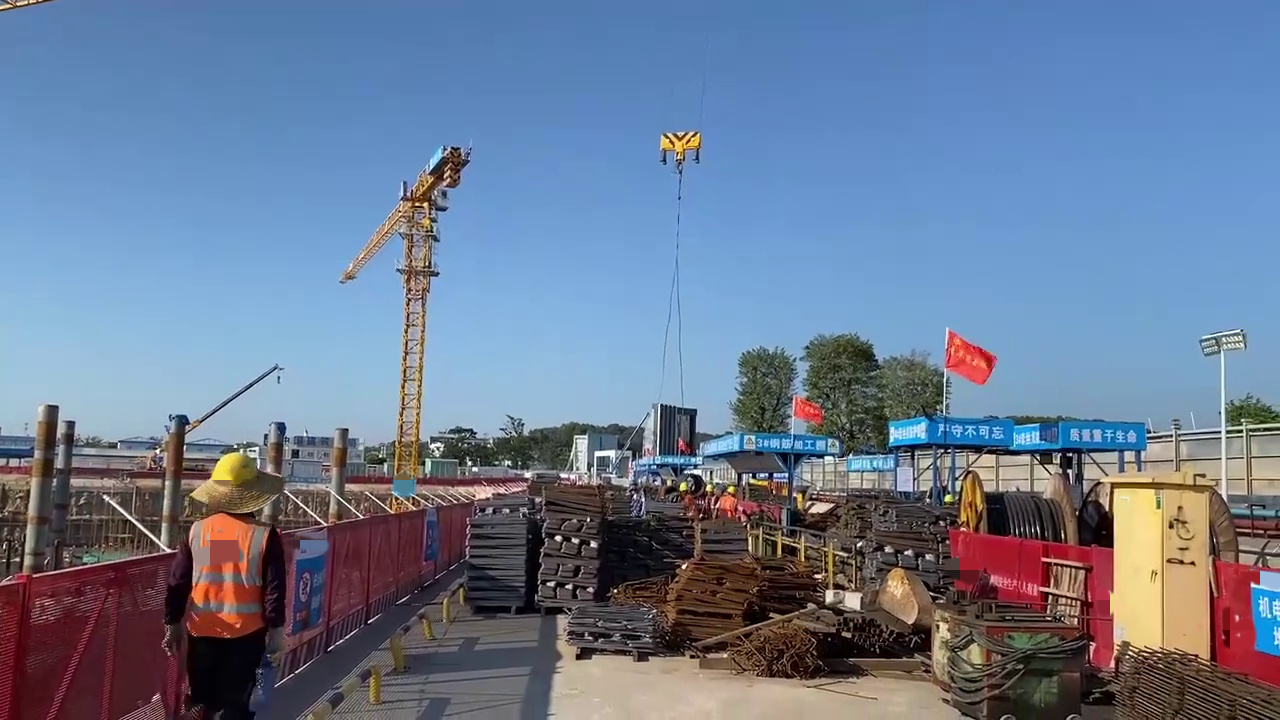ebox: (1107, 471, 1213, 657)
fence: (293, 496, 461, 667)
helmet: (207, 454, 262, 482)
hook: (661, 129, 703, 165)
person: (168, 451, 284, 720), (675, 482, 696, 521), (720, 484, 738, 519), (701, 483, 715, 519)
rebar: (1094, 641, 1249, 720), (677, 548, 757, 650), (542, 476, 600, 616), (471, 495, 531, 612), (734, 620, 812, 677), (840, 604, 912, 665), (853, 505, 887, 610)
slogan: (1056, 420, 1141, 446), (938, 419, 1012, 443), (988, 573, 1038, 596)
vest: (182, 514, 274, 638), (719, 496, 737, 520)
